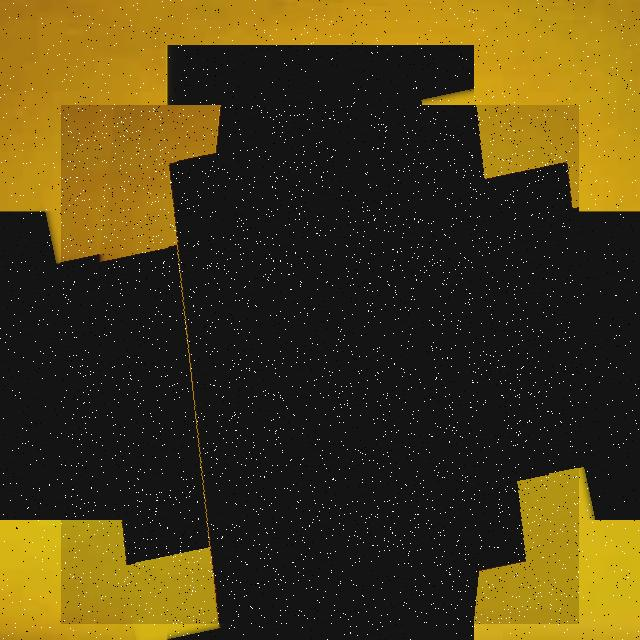lima puluh ribu rupiah: (61, 105, 579, 624)
